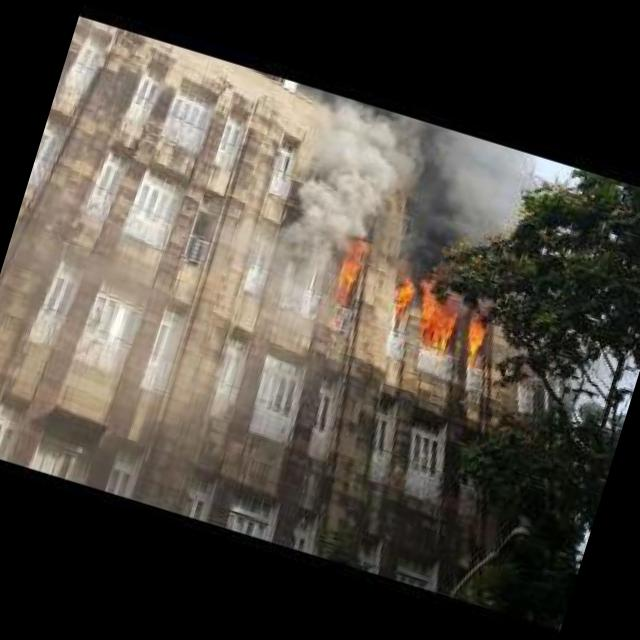fire: (379, 250, 496, 372), (332, 236, 379, 308)
smoke: (278, 90, 436, 266), (410, 124, 550, 258)
